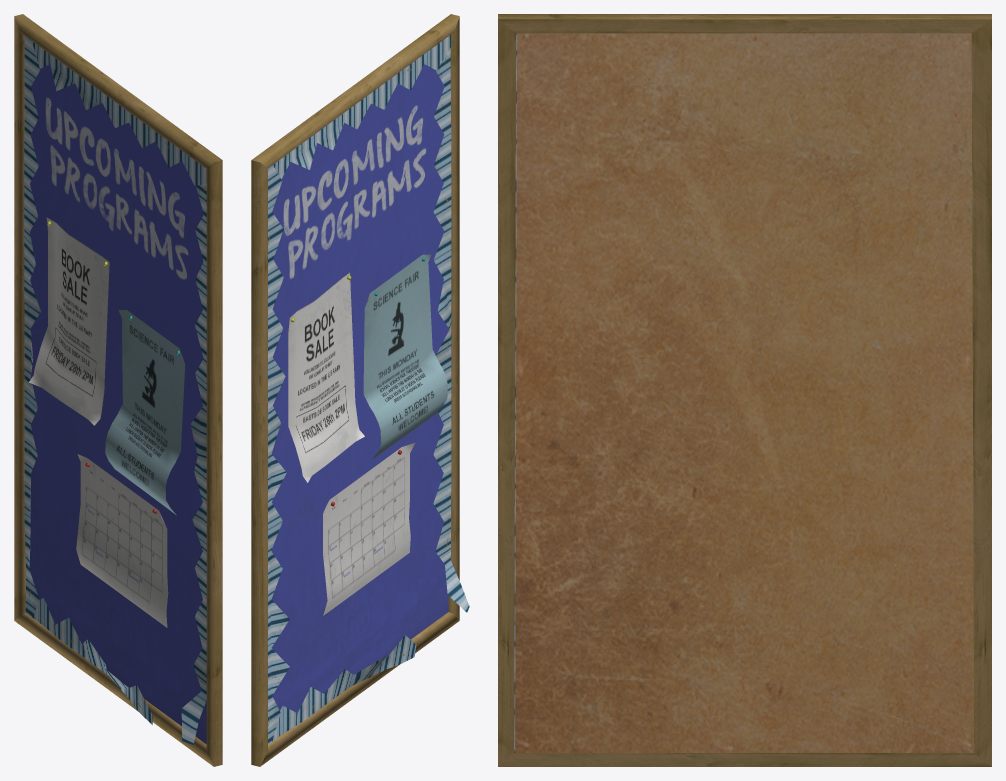
File: SM_Wallposter_02a.fbx
3 views of the same model, side by side, from view 1: azimuth 30°, elevation 25°; view 2: azimuth 150°, elevation 25°; view 3: azimuth 270°, elevation 25° (orthographic). The views are drawn at different scales.
Parts seen in each view (by area): view 1: SM_Wallposter_02a_LOD0; view 2: SM_Wallposter_02a_LOD0; view 3: SM_Wallposter_02a_LOD0.
Boxes of the visible parts, box(x1,y1,x2,y2) form: SM_Wallposter_02a_LOD0: box(14, 14, 222, 766); SM_Wallposter_02a_LOD0: box(251, 14, 469, 766); SM_Wallposter_02a_LOD0: box(498, 14, 991, 766).
Bounding box in the file's own units: 7.61 × 92.86 × 155.
